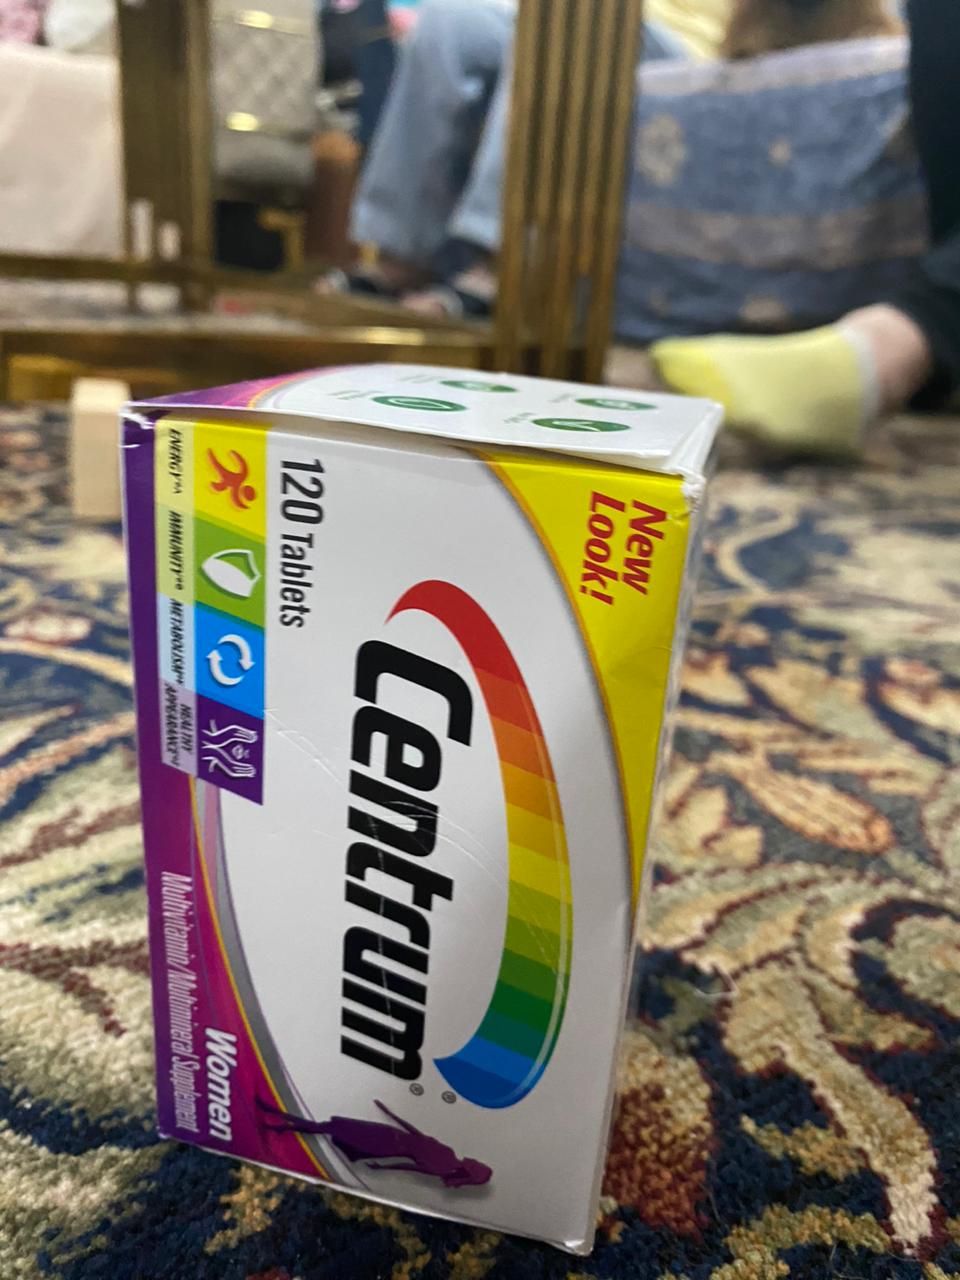Centrum: (127, 360, 721, 1249)
Yellow Box: (71, 383, 127, 518)
